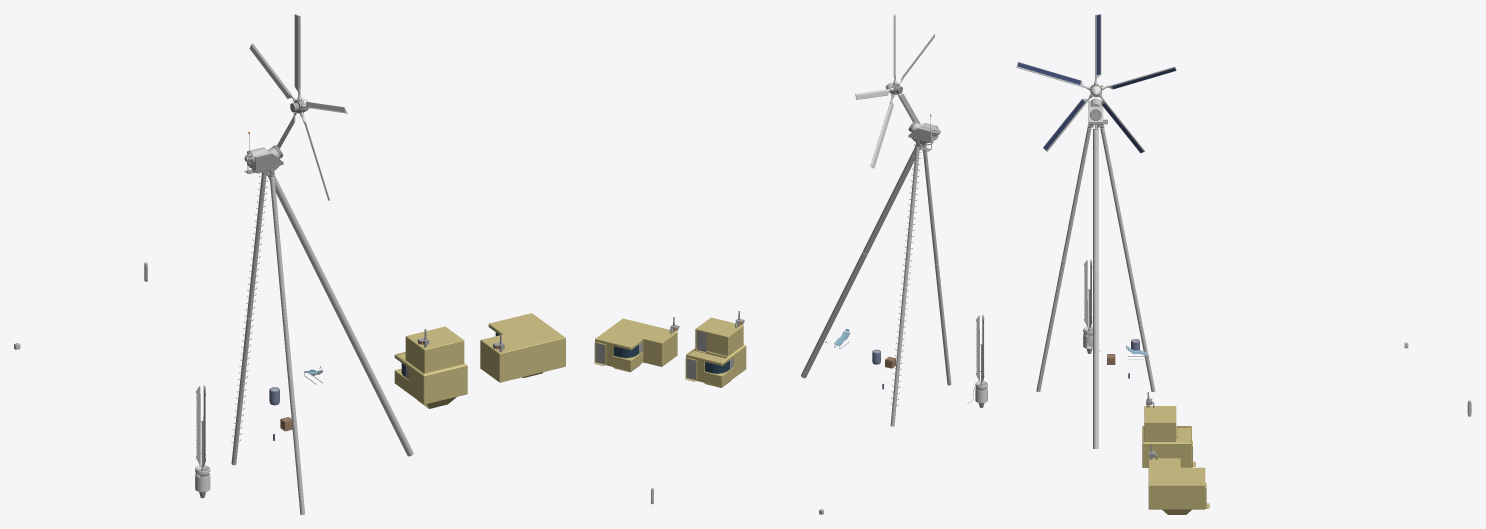
Rendered from Cubilla Stuff.dae.
3 renders of one model, left to right at view 1: azimuth 30°, elevation 25°; view 2: azimuth 150°, elevation 25°; view 3: azimuth 270°, elevation 25°, orthographic. The views are drawn at different scales.
Parts seen in each view (by area): view 1: Sunrotor1, Cubilla1, Cubilla2, Sunrotor1Fan, WaterCondenser1; view 2: Sunrotor1, Cubilla2, Cubilla1, Sunrotor1Fan, WaterCondenser1; view 3: Sunrotor1, Cubilla2, Cubilla1, Sunrotor1Fan, WaterCondenser1.
Part boxes in pixels (<box>): Sunrotor1: <box>231,131,413,514</box>; Cubilla1: <box>394,326,467,408</box>; Cubilla2: <box>480,313,565,382</box>; Sunrotor1Fan: <box>249,14,347,200</box>; WaterCondenser1: <box>195,385,210,498</box>; Sunrotor1: <box>801,114,951,426</box>; Cubilla2: <box>594,317,679,372</box>; Cubilla1: <box>685,311,746,387</box>; Sunrotor1Fan: <box>855,14,934,168</box>; WaterCondenser1: <box>968,315,987,407</box>; Sunrotor1: <box>1036,85,1155,448</box>; Cubilla2: <box>1148,444,1209,514</box>; Cubilla1: <box>1142,392,1195,467</box>; Sunrotor1Fan: <box>1016,14,1176,153</box>; WaterCondenser1: <box>1083,259,1100,353</box>.
Bounding box in the file's own units: 61.35 × 71.32 × 67.46.
